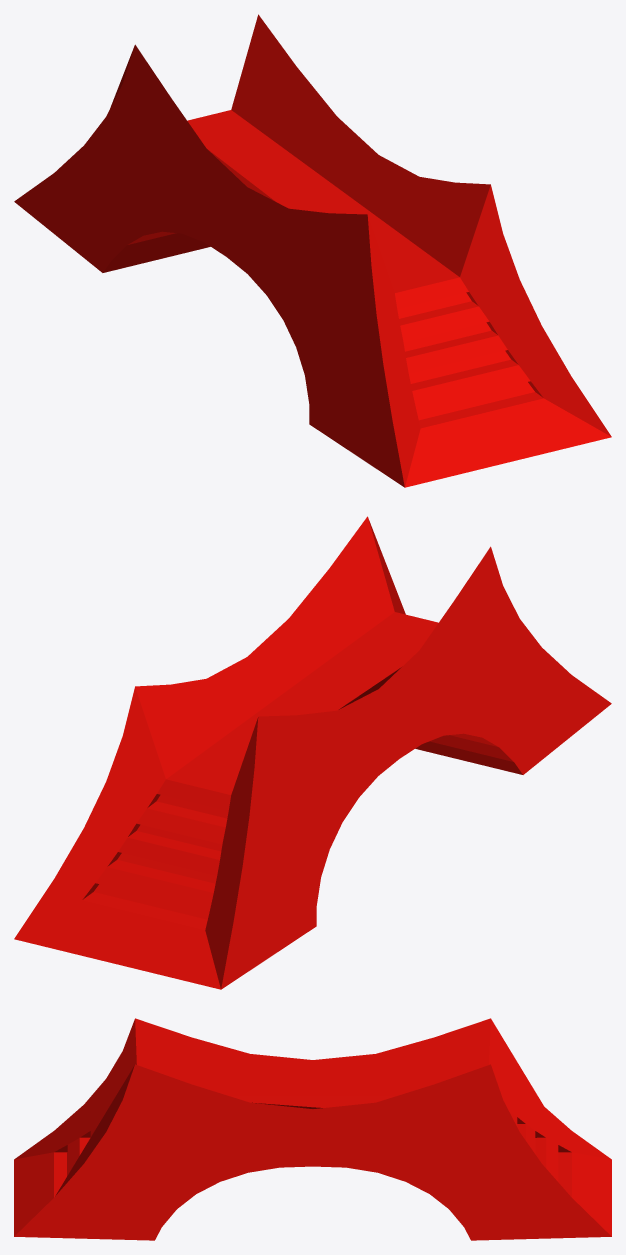
File: PuenteCatan.fbx
3 renders of one model, top to bottom at view 1: azimuth 30°, elevation 25°; view 2: azimuth 150°, elevation 25°; view 3: azimuth 270°, elevation 25°, orthographic. The views are drawn at different scales.
Parts seen in each view (by area): view 1: Cube; view 2: Cube; view 3: Cube.
Boxes of the visible parts, bbox=[...] form: Cube: bbox=[14, 14, 611, 487]; Cube: bbox=[14, 516, 611, 989]; Cube: bbox=[14, 1018, 611, 1240].
Bounding box in the file's own units: 49.38 × 45.99 × 156.
